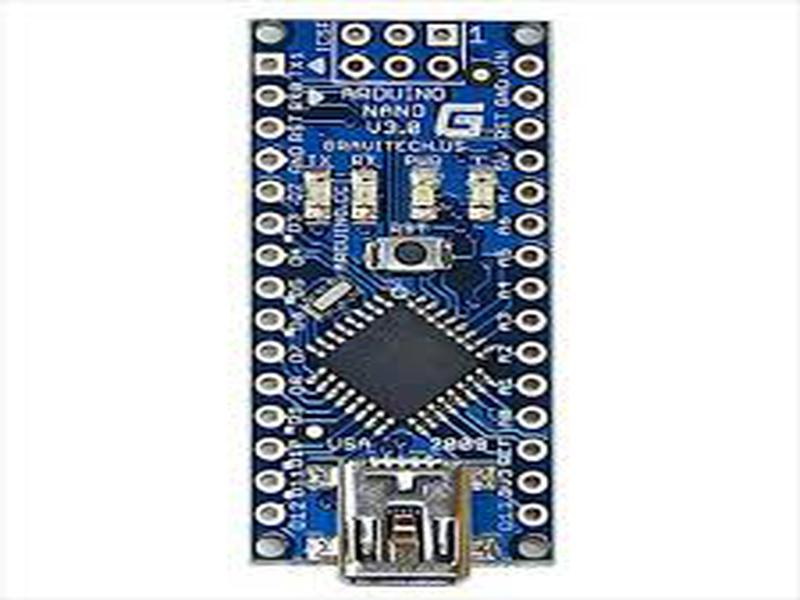Arduino_Nano: (242, 14, 560, 591)
